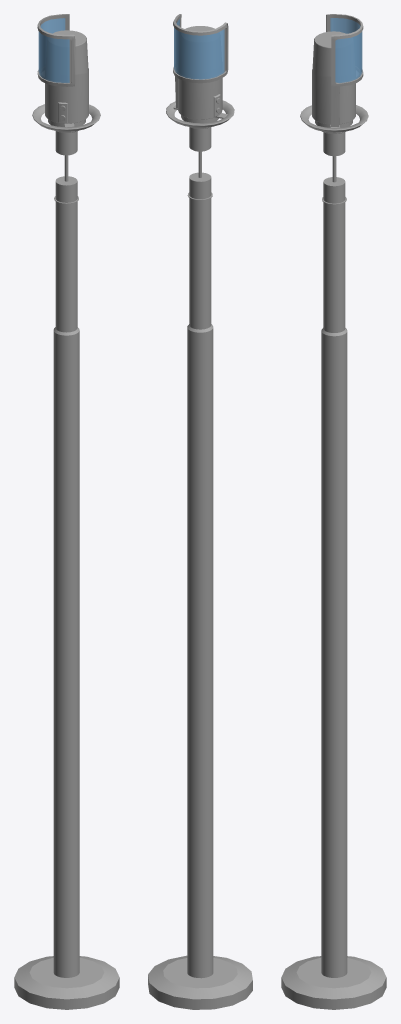
The model's file is micro_loq1.fbx.
3 renders of one model, left to right at view 1: azimuth 90°, elevation 25°; view 2: azimuth 150°, elevation 25°; view 3: azimuth 270°, elevation 25°, orthographic.
Parts seen in each view (by area): view 1: micro; view 2: micro; view 3: micro.
Boxes of the visible parts, <box> form: micro: <box>14,14,119,1009</box>; micro: <box>148,14,252,1009</box>; micro: <box>281,14,386,1009</box>.
Bounding box in the file's own units: 16.49 × 167 × 16.49.
